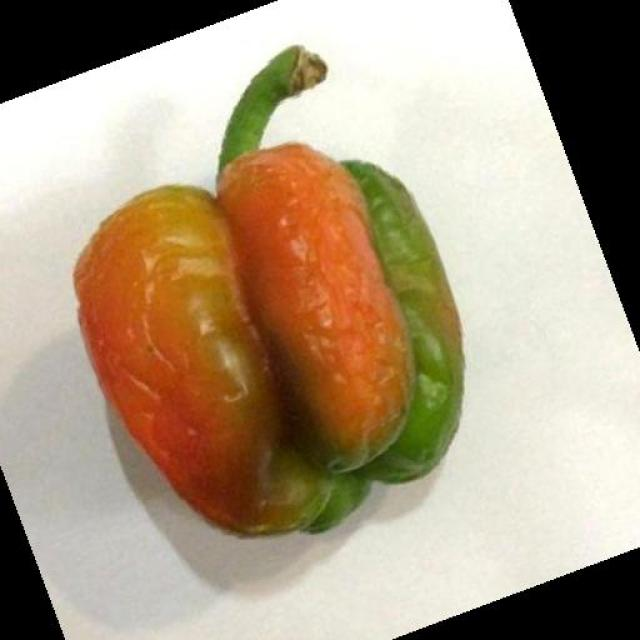Stale_Capsicum: (55, 95, 552, 505)
